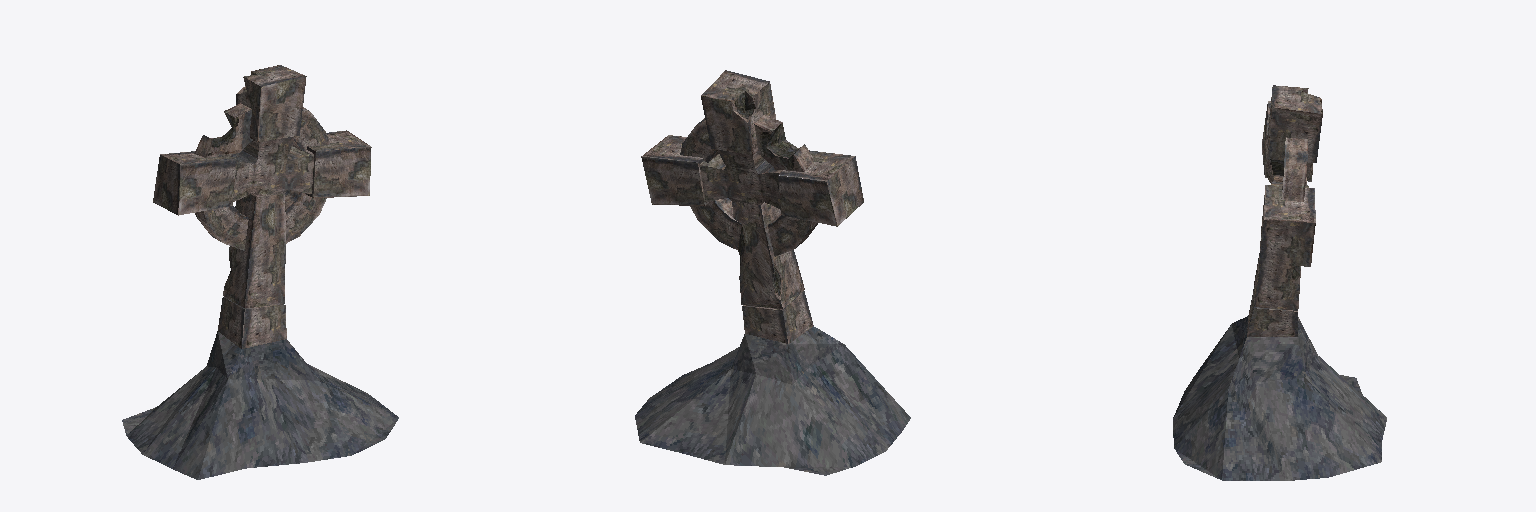
3 views of the same model, side by side, from view 1: azimuth 30°, elevation 25°; view 2: azimuth 150°, elevation 25°; view 3: azimuth 270°, elevation 25° (orthographic).
Visible parts, largest first — view 1: Node 0, Node 2, Node 1, Node 3; view 2: Node 0, Node 2, Node 1, Node 3; view 3: Node 0, Node 2, Node 1.
Boxes of the visible parts, x1=… form: Node 0: x1=122, y1=297, x2=398, y2=479; Node 2: x1=236, y1=65, x2=371, y2=243; Node 1: x1=223, y1=136, x2=313, y2=307; Node 3: x1=153, y1=103, x2=252, y2=250; Node 0: x1=635, y1=291, x2=910, y2=475; Node 2: x1=641, y1=70, x2=775, y2=249; Node 1: x1=700, y1=150, x2=804, y2=308; Node 3: x1=754, y1=114, x2=863, y2=256; Node 0: x1=1173, y1=289, x2=1386, y2=480; Node 2: x1=1259, y1=85, x2=1322, y2=266; Node 1: x1=1254, y1=155, x2=1312, y2=310.
Bounding box in the file's own units: 3.35 × 4.73 × 2.69.
Materials: 5 (2 with a texture image).